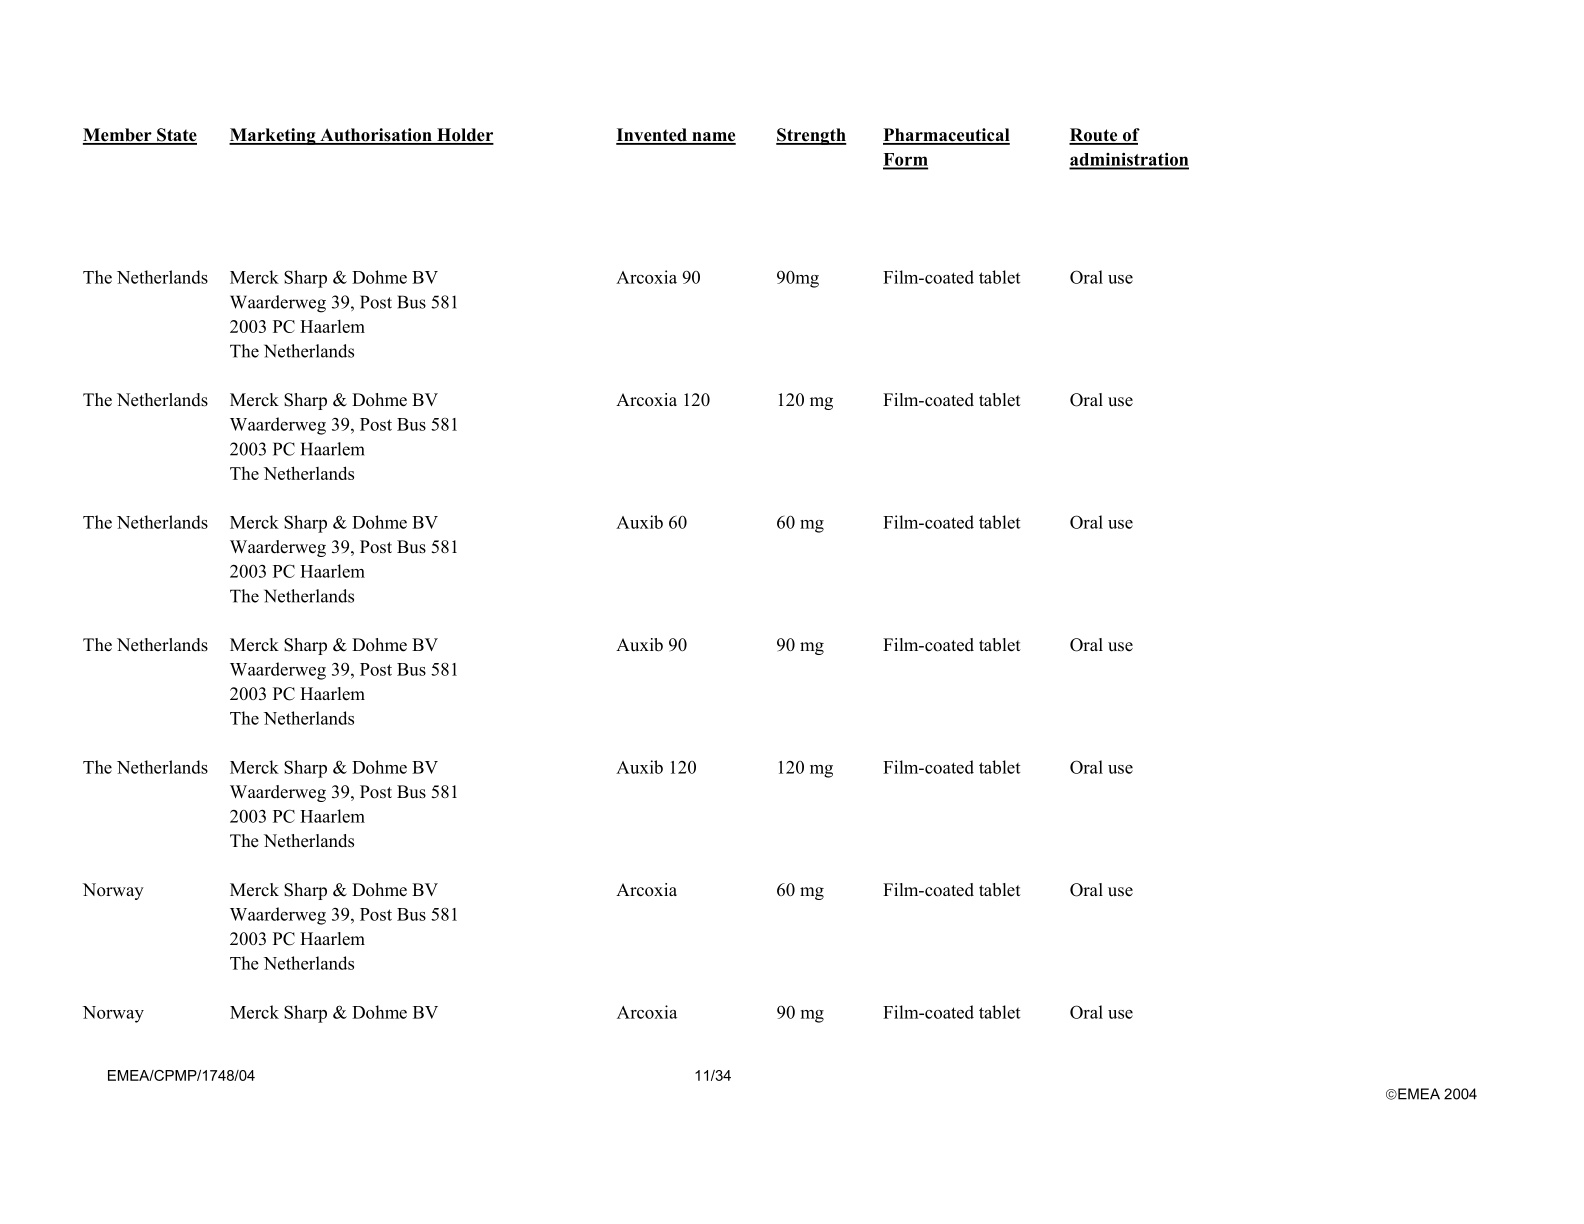nolines: (78, 117, 1191, 1025)
